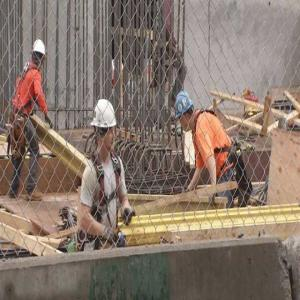blue: (175, 90, 196, 135)
white: (94, 99, 117, 153), (31, 39, 47, 68)
